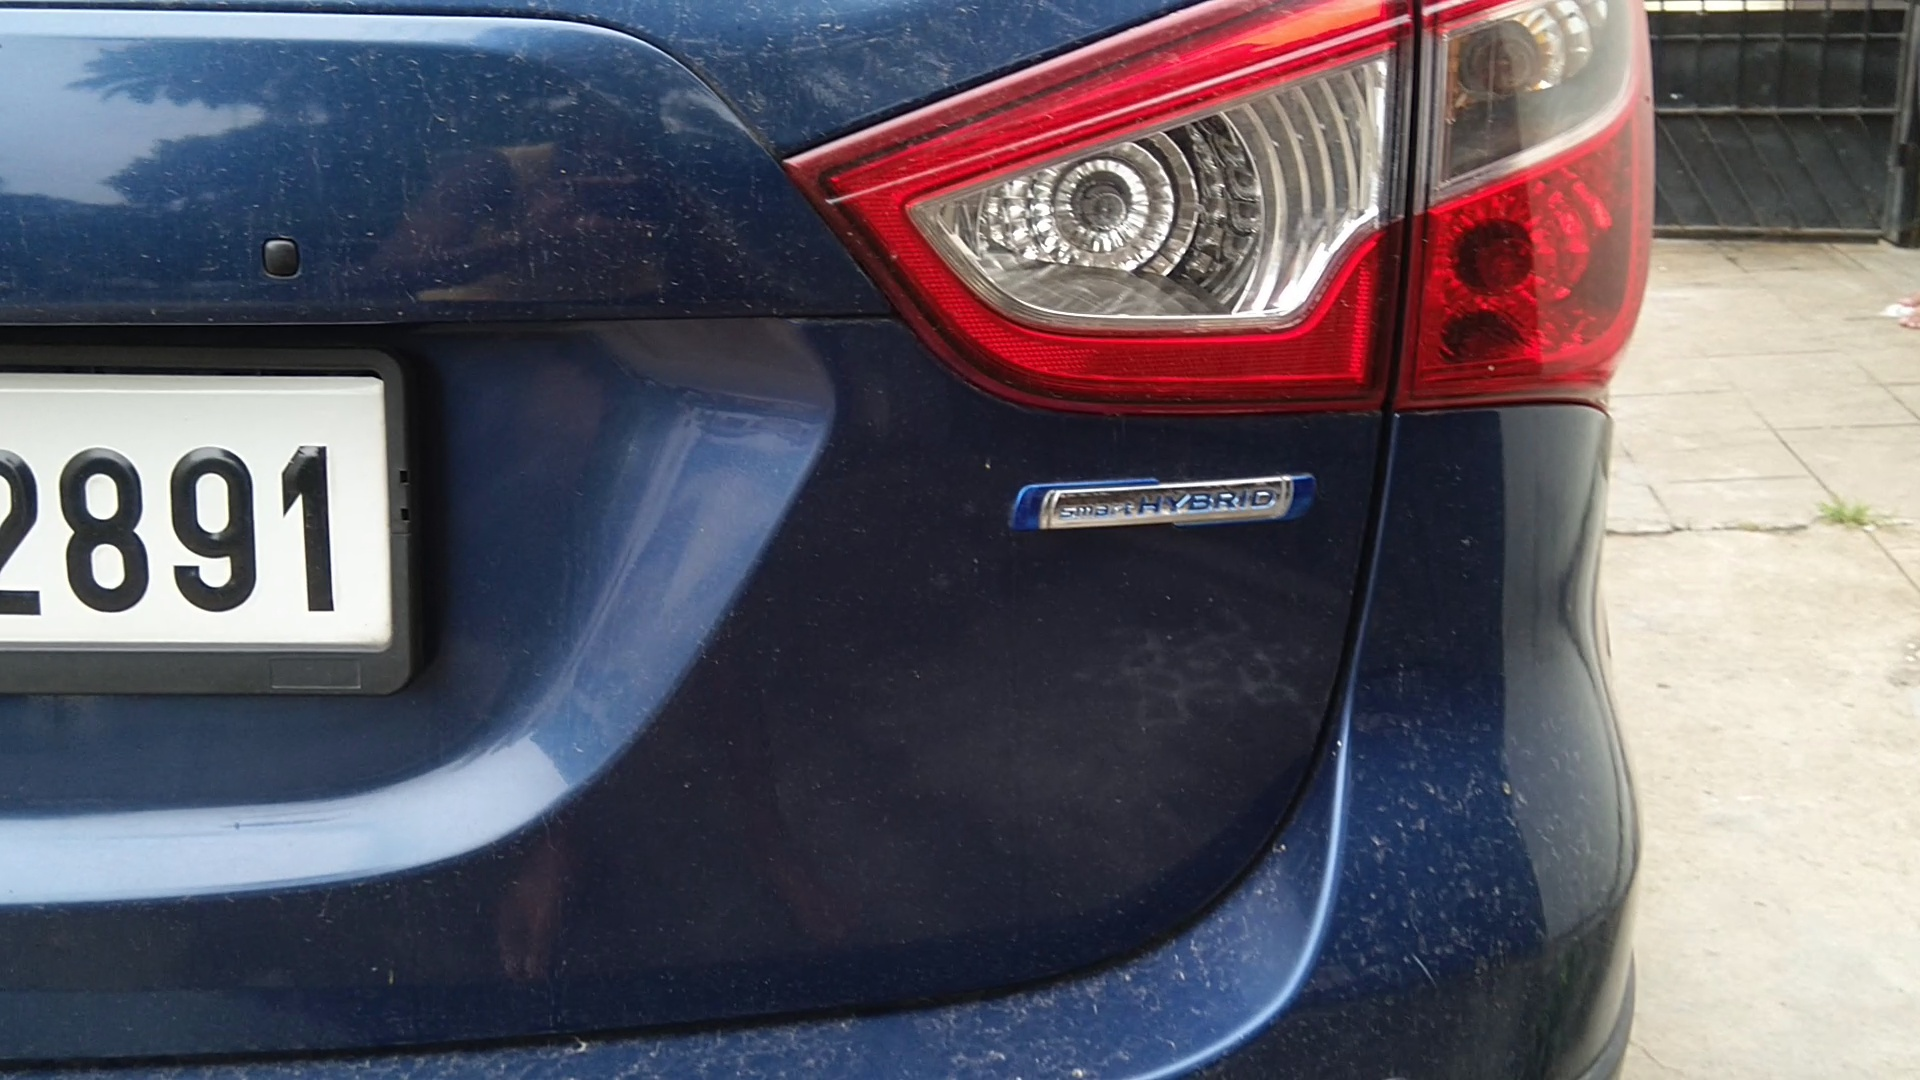shvs: (994, 446, 1364, 578)
